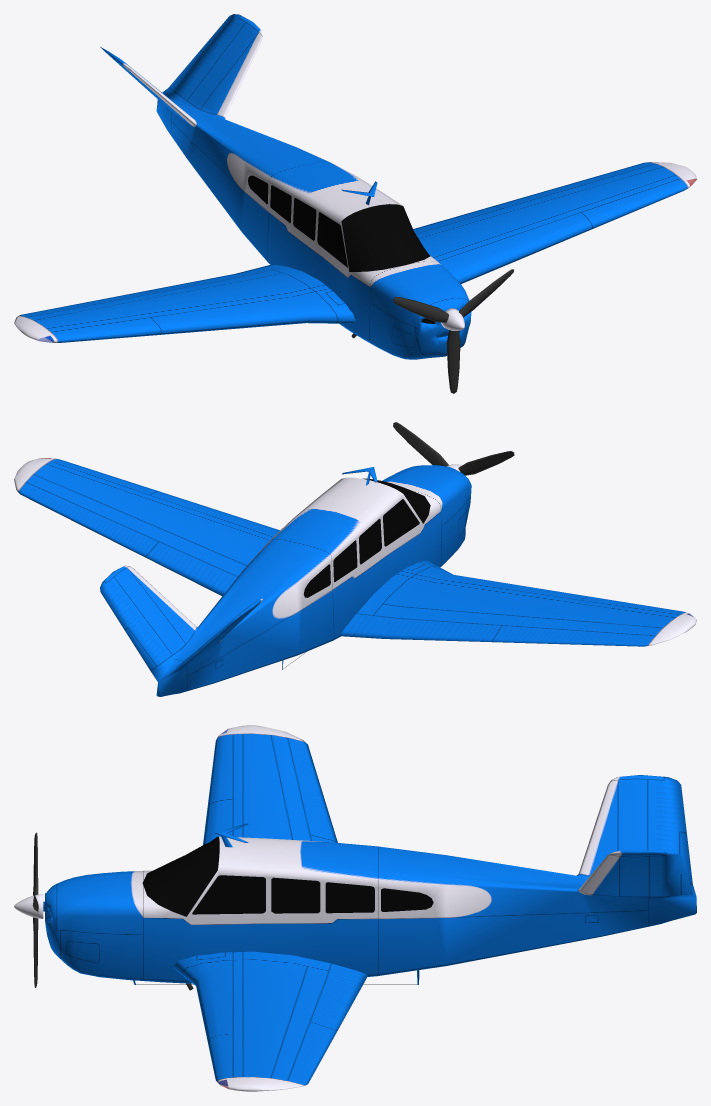
Rendered from airplane6.obj.
3 views of the same model, one above another, from view 1: azimuth 30°, elevation 25°; view 2: azimuth 150°, elevation 25°; view 3: azimuth 270°, elevation 25° (orthographic). The views are drawn at different scales.
Visible parts, largest first — view 1: aircraft, window, propeller; view 2: aircraft, window, propeller; view 3: aircraft, window, propeller.
Part boxes in pixels (<box>): aircraft: <box>14,14,696,359</box>; window: <box>248,175,430,271</box>; propeller: <box>393,269,513,393</box>; aircraft: <box>14,458,696,696</box>; window: <box>303,478,430,597</box>; propeller: <box>393,422,514,475</box>; aircraft: <box>43,725,696,1091</box>; window: <box>142,836,433,916</box>; propeller: <box>14,832,43,987</box>.
Size of the model in its own units: 11.72 by 2.63 by 9.29.
Materials: 5 (1 with a texture image).
